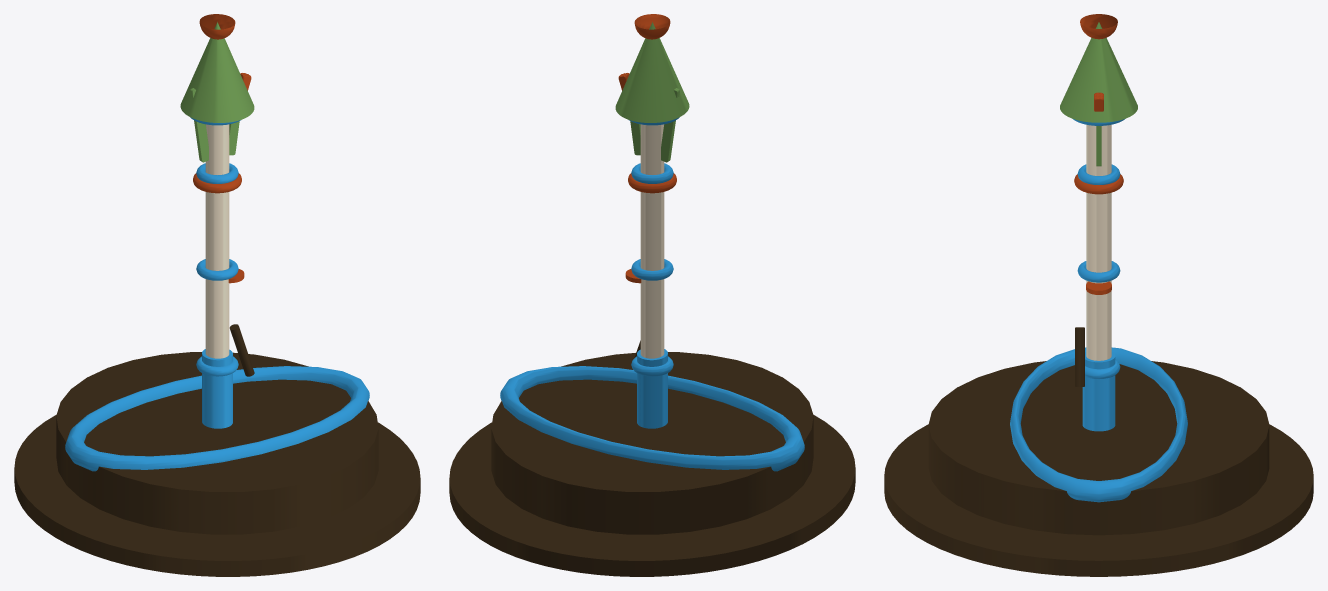
The model's file is 0205_生活中的物理图鉴_防滑轮胎.glb.
The picture shows the model from 3 angles, left to right: view 1: azimuth 30°, elevation 25°; view 2: azimuth 150°, elevation 25°; view 3: azimuth 270°, elevation 25°; orthographic projection.
Parts seen in each view (by area): view 1: card_0205; view 2: card_0205; view 3: card_0205.
Boxes of the visible parts, <box> form: card_0205: <box>14,14,420,576</box>; card_0205: <box>449,14,855,576</box>; card_0205: <box>884,14,1313,576</box>.
Size of the model in its own units: 0.7753 by 1 by 0.8272.
